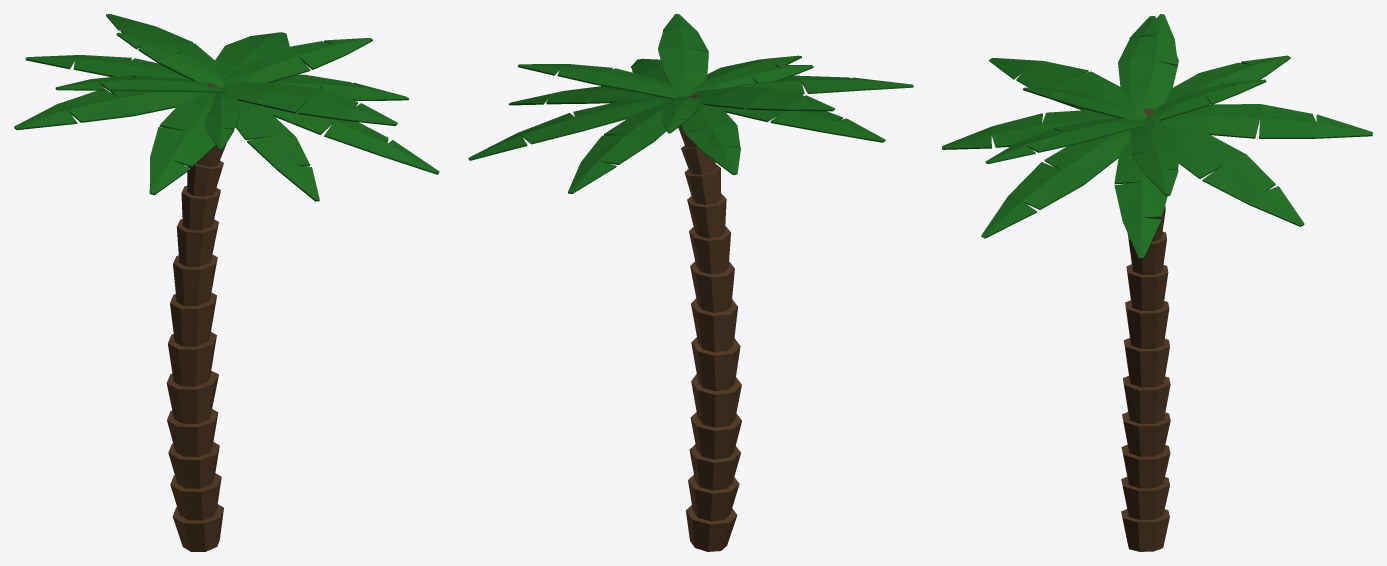
File: PalmTree.fbx
3 renders of one model, left to right at view 1: azimuth 30°, elevation 25°; view 2: azimuth 150°, elevation 25°; view 3: azimuth 270°, elevation 25°, orthographic. The views are drawn at different scales.
Parts seen in each view (by area): view 1: Leaves, Trunk; view 2: Leaves, Trunk; view 3: Leaves, Trunk.
Boxes of the visible parts, x1,y1,x2,y2 form: Leaves: (14, 14, 439, 201); Trunk: (166, 82, 226, 551); Leaves: (468, 14, 913, 193); Trunk: (678, 94, 741, 551); Leaves: (942, 14, 1372, 259); Trunk: (1121, 108, 1170, 551).
Bounding box in the file's own units: 501 × 599 × 498.
